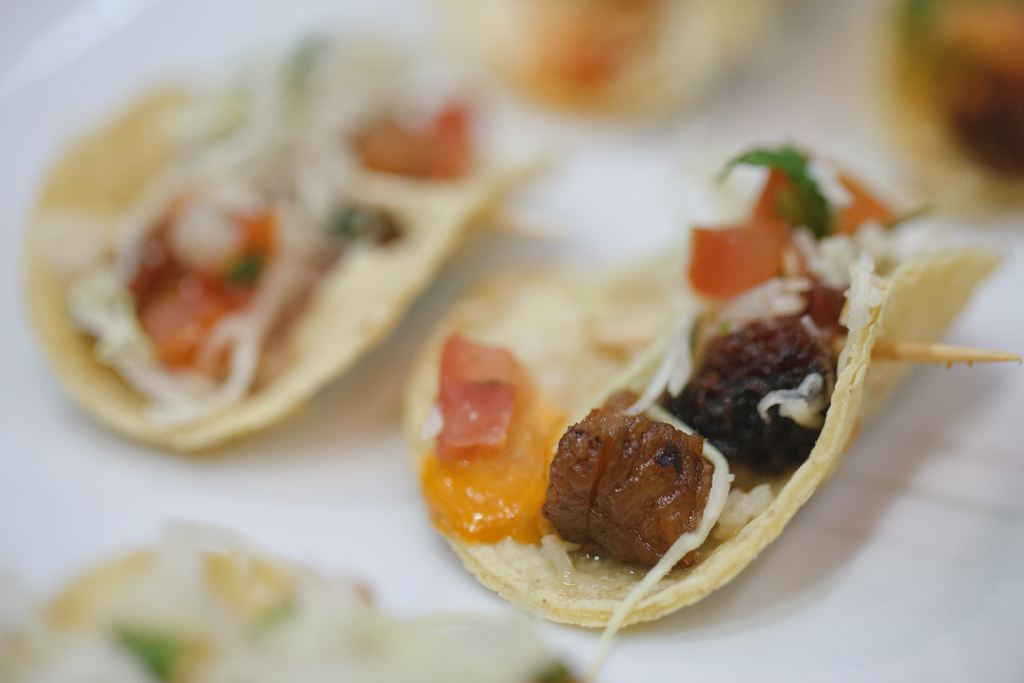taco: (403, 204, 922, 634), (20, 28, 518, 474)
